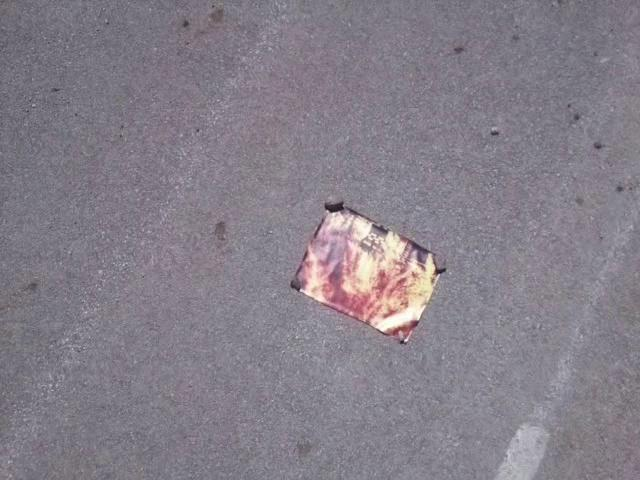fire-poster: (288, 196, 447, 346)
